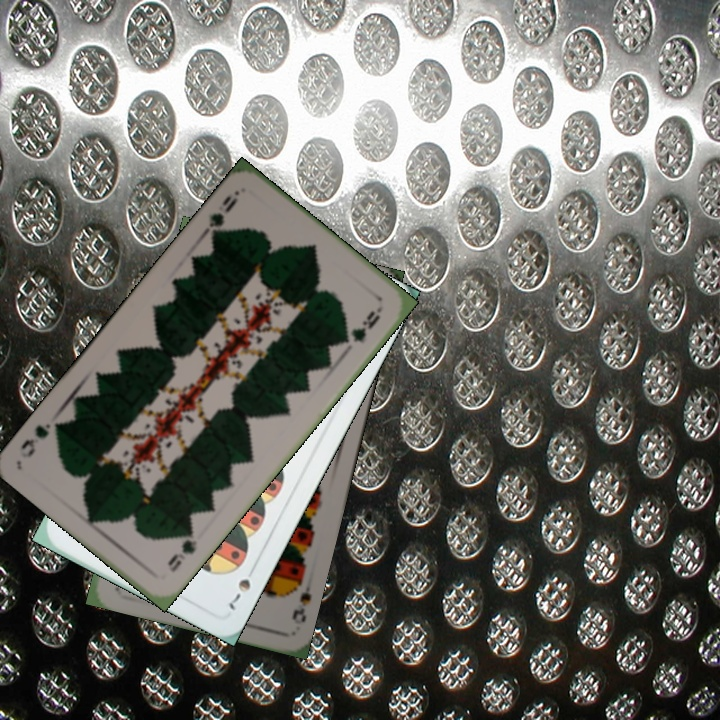G9: (199, 186, 242, 243), (163, 525, 200, 575)
S7: (224, 574, 254, 613)
S9: (287, 571, 314, 625)
